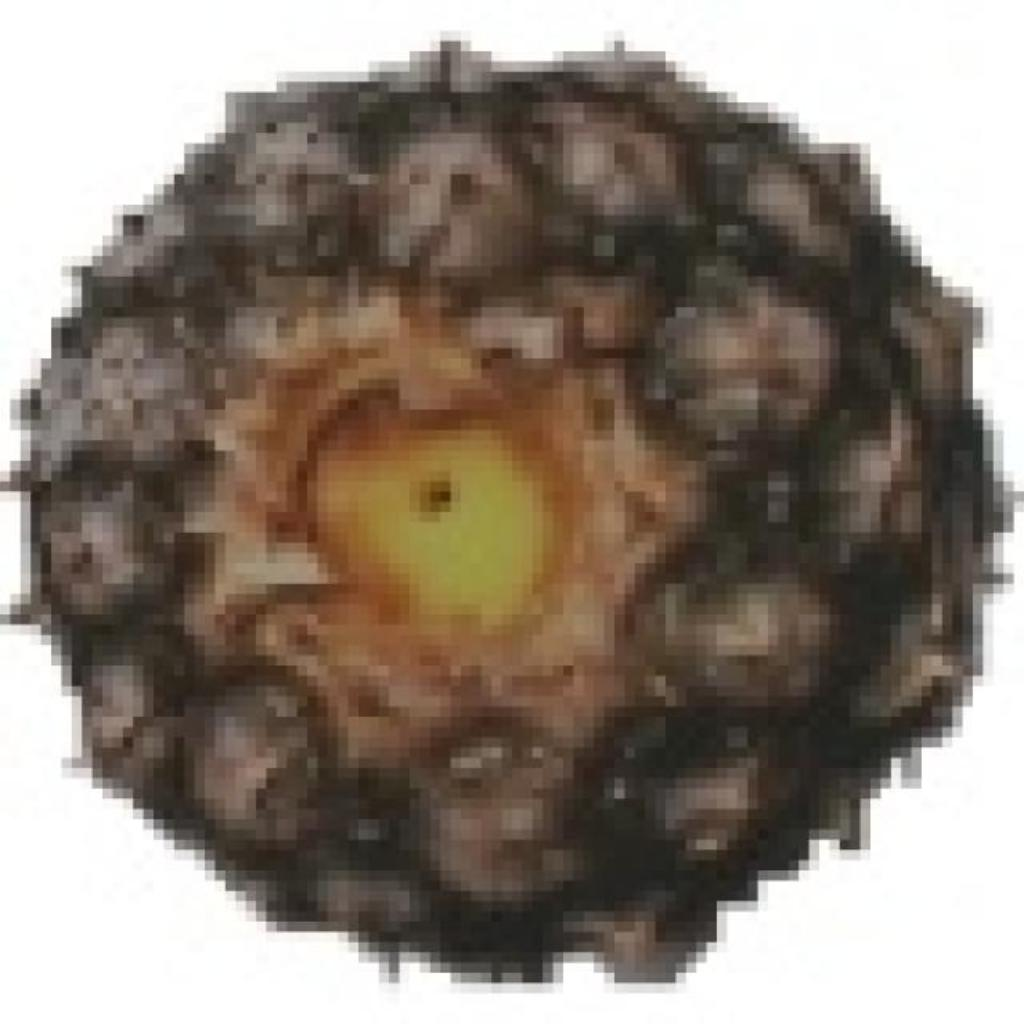pineapple: (10, 31, 973, 952)
